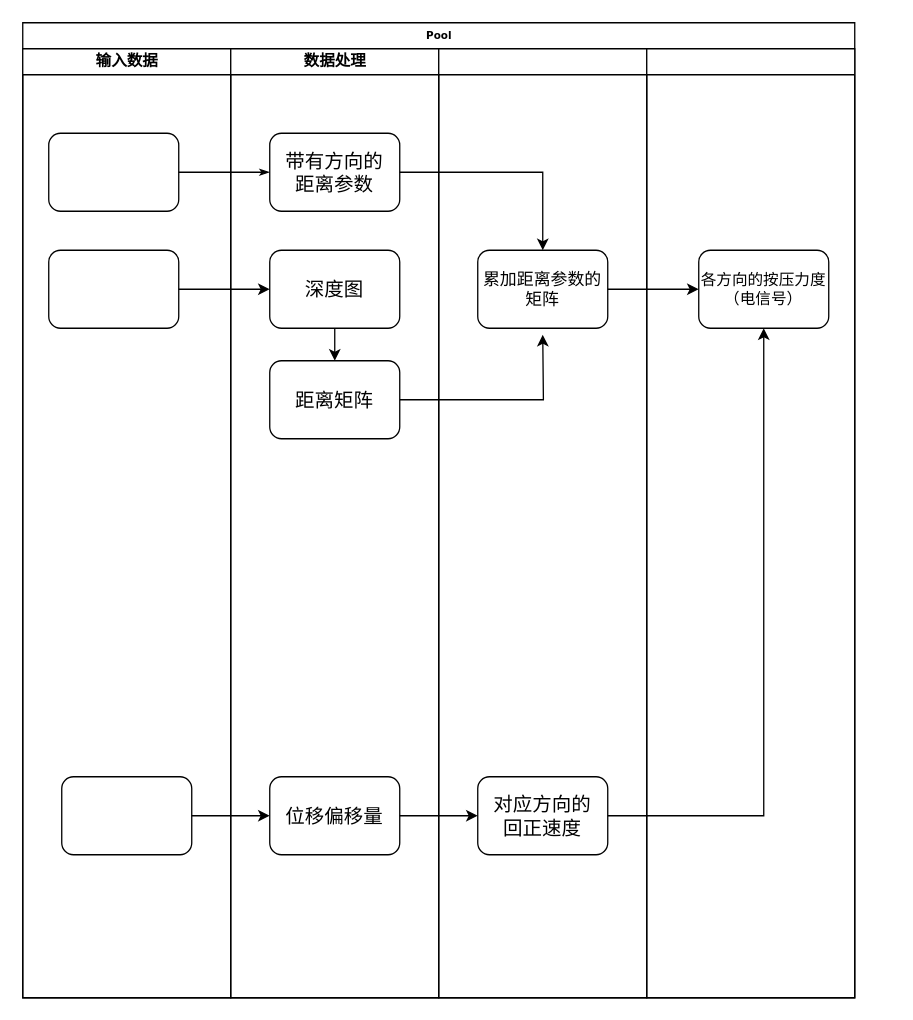
This 913x1020 diagram has some shape labels left out. Here are the shapes that lost their labels. From the top down, the box of each, then its label:
(47, 132, 179, 211): 超声波信号
(47, 249, 179, 328): 视觉信号
(437, 47, 647, 998): 数据整合
(645, 47, 855, 998): 数据输出
(60, 775, 192, 855): 加速度信号
